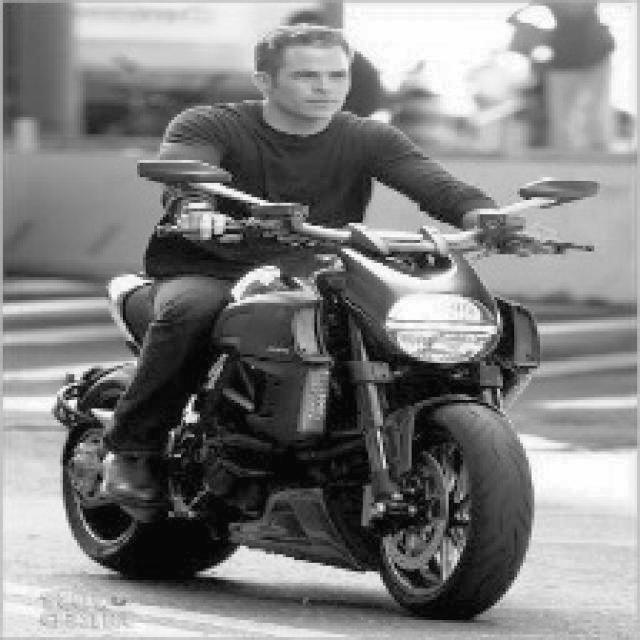Bike: (80, 197, 580, 639)
